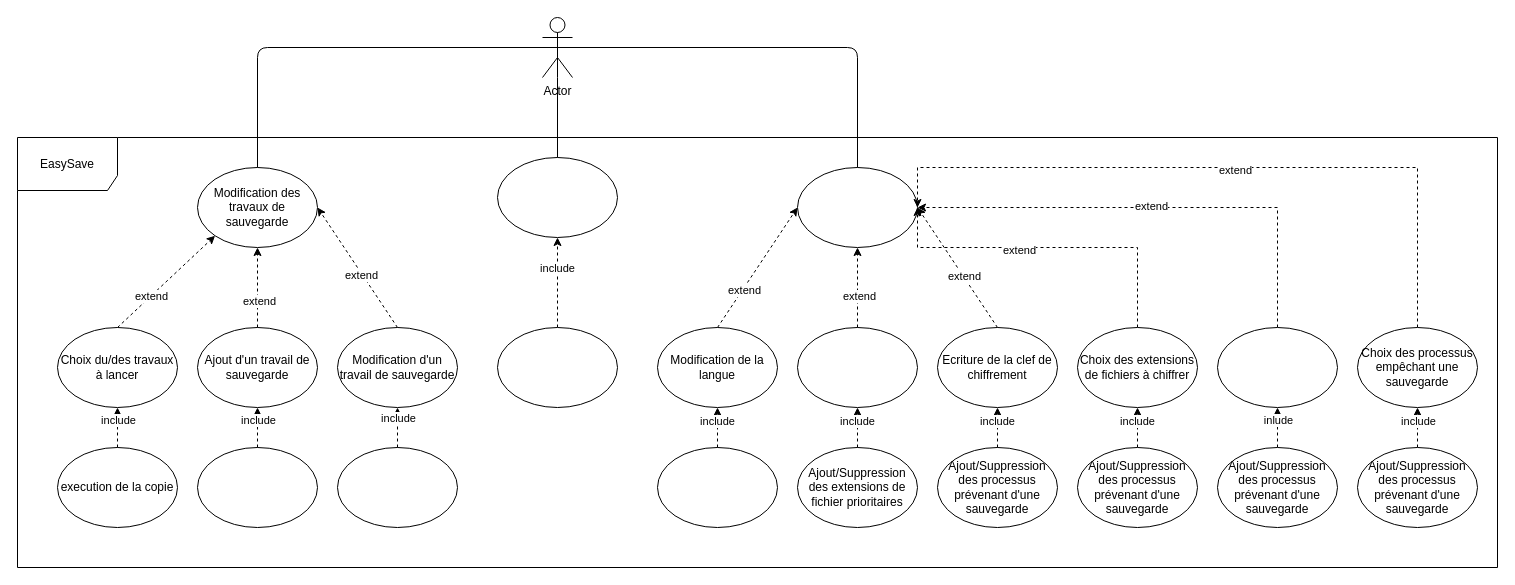
This 1515x585 diagram has some shape labels left out. Each missing label, with the box of its shape:
Ajout/Suppression des extensions de fichier à chiffrer: (656, 446, 778, 528)
Aperçu des fichiers logs: (496, 156, 618, 238)
Choix des extensions prioritaires: (1216, 326, 1338, 408)
Choix du fichier log à ouvrir: (496, 326, 618, 408)
Choix du travail à modifier: (336, 446, 458, 528)
Définitions des caractéristiques du travail: (196, 446, 318, 528)
Modification des paramètres: (796, 166, 918, 248)
Modification du format: (796, 326, 918, 408)
